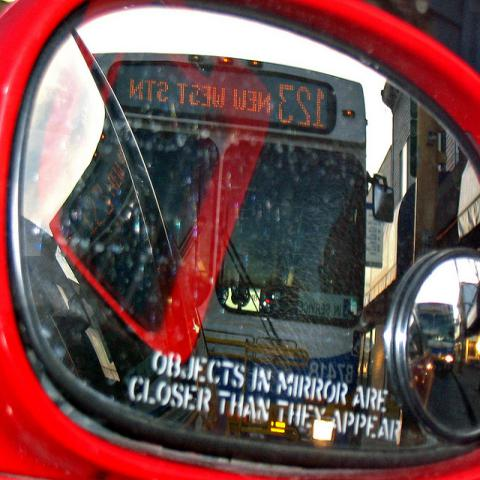bus: (97, 51, 396, 384)
car: (407, 310, 435, 408)
